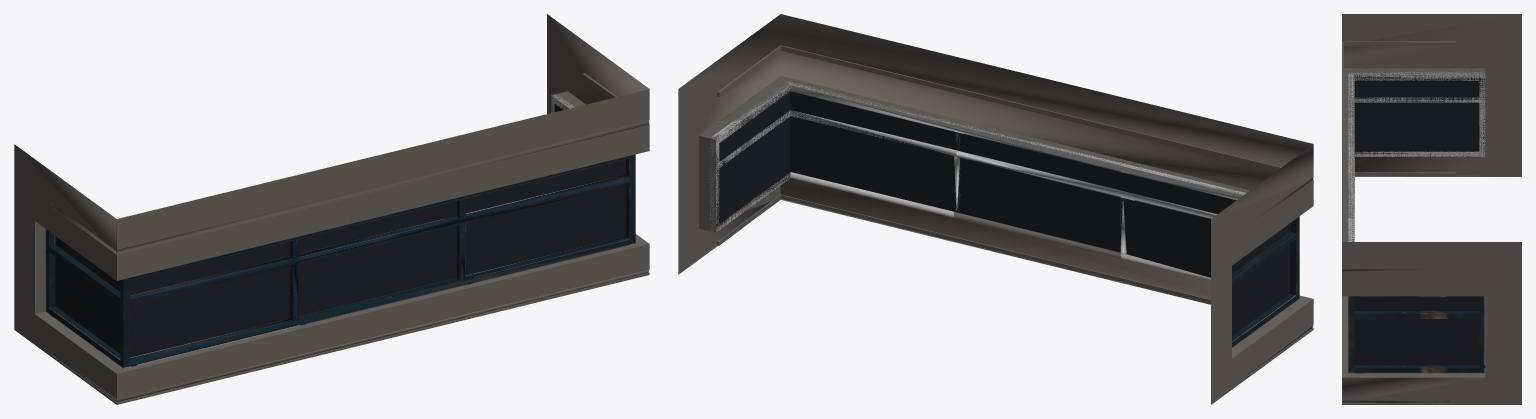
Rendered from sm_cb01_module05.glb.
3 renders of one model, left to right at view 1: azimuth 30°, elevation 25°; view 2: azimuth 150°, elevation 25°; view 3: azimuth 270°, elevation 25°, orthographic. The views are drawn at different scales.
Visible parts, largest first — view 1: sm_cb01_module05_00; view 2: sm_cb01_module05_00; view 3: sm_cb01_module05_00.
Part boxes in pixels (x1,y1,x2,y2): sm_cb01_module05_00: (14, 14, 649, 404); sm_cb01_module05_00: (678, 14, 1313, 404); sm_cb01_module05_00: (1342, 14, 1521, 404).
Size of the model in its own units: 9.01 by 3 by 3.
2 materials, 1 textured.
